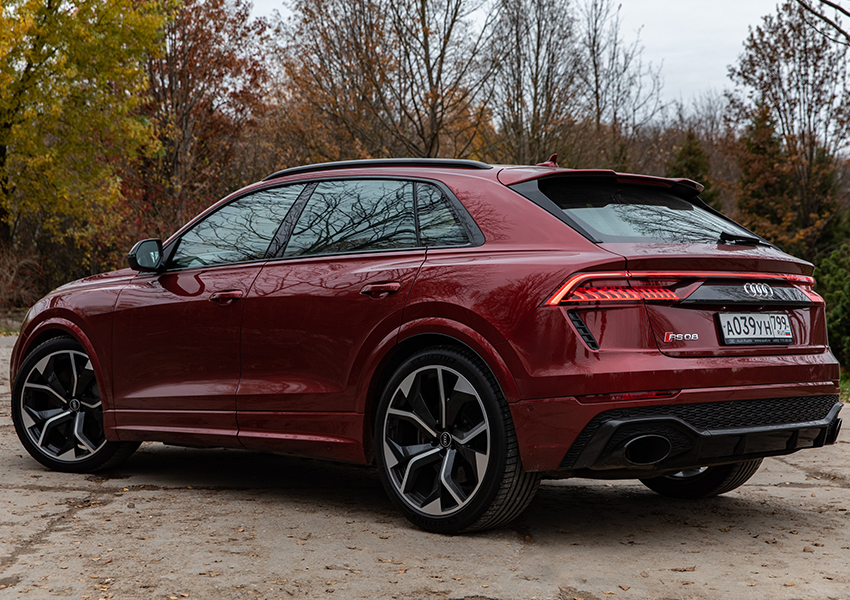car: (6, 152, 846, 537)
